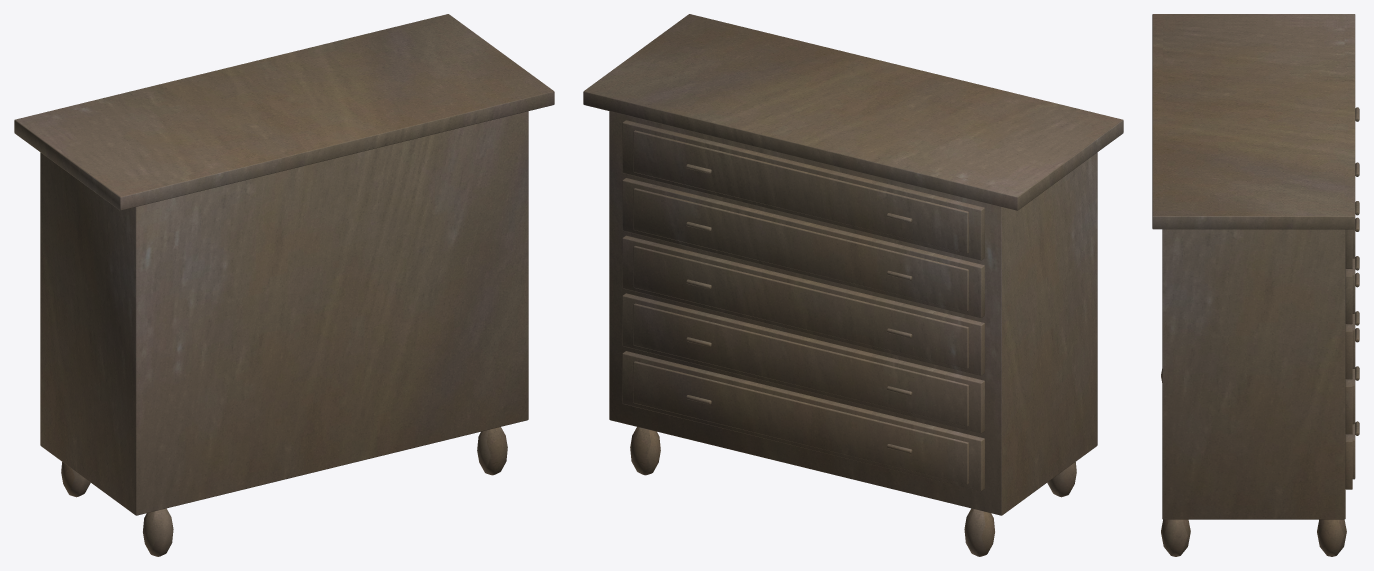
The model's file is Antique_Chest_01.fbx.
3 renders of one model, left to right at view 1: azimuth 30°, elevation 25°; view 2: azimuth 150°, elevation 25°; view 3: azimuth 270°, elevation 25°, orthographic. The views are drawn at different scales.
Parts seen in each view (by area): view 1: Antique_Chest; view 2: Antique_Chest; view 3: Antique_Chest.
Boxes of the visible parts, x1,y1,x2,y2 form: Antique_Chest: [14, 14, 554, 556]; Antique_Chest: [583, 14, 1123, 556]; Antique_Chest: [1152, 14, 1359, 556].
Bounding box in the file's own units: 1.62 × 1.36 × 0.7007.
1 material, 1 textured.
